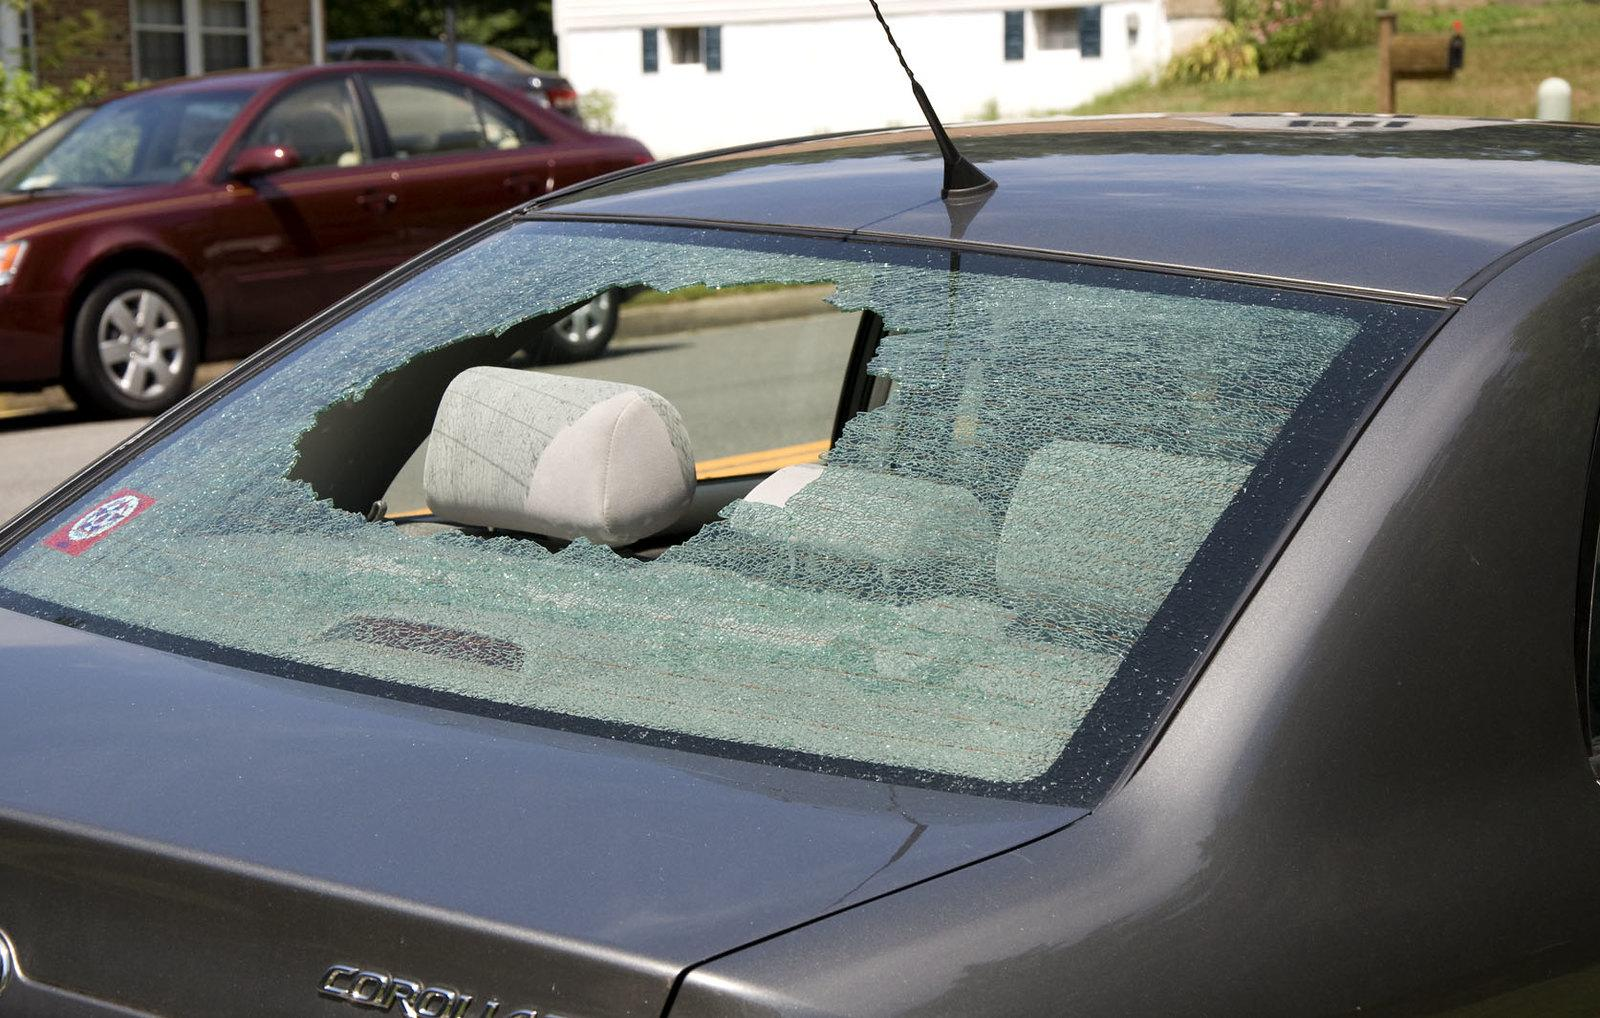Rear-windscreen-Damage: (101, 143, 1340, 803)
